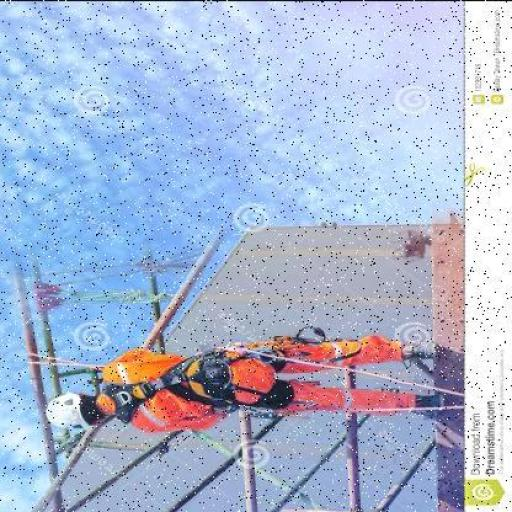person: (38, 315, 457, 467)
safety_shoe: (408, 386, 452, 418), (401, 337, 441, 366)
